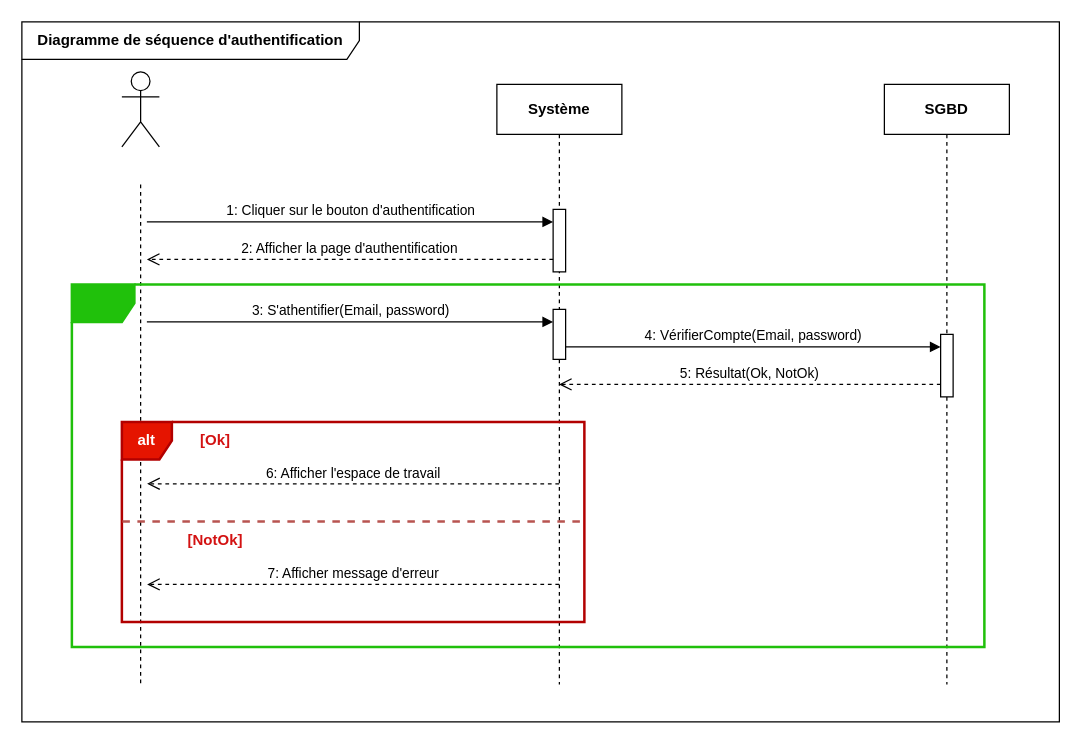
Some shapes in this 1081 by 744 pixel diagram are drawn without their labels. The box of each missing label's shape, as (x1, y1, x2, y2) in pixels:
loop: (70, 282, 985, 648)
Patient: (121, 71, 159, 147)
